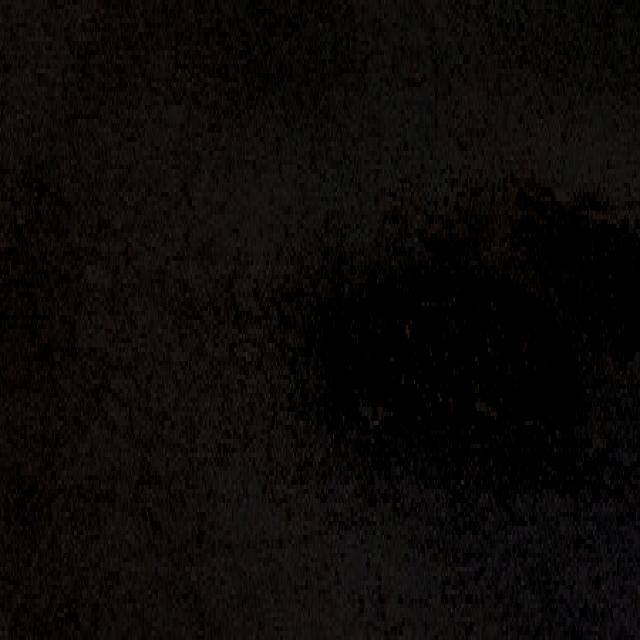Pothole: (307, 230, 640, 517)
